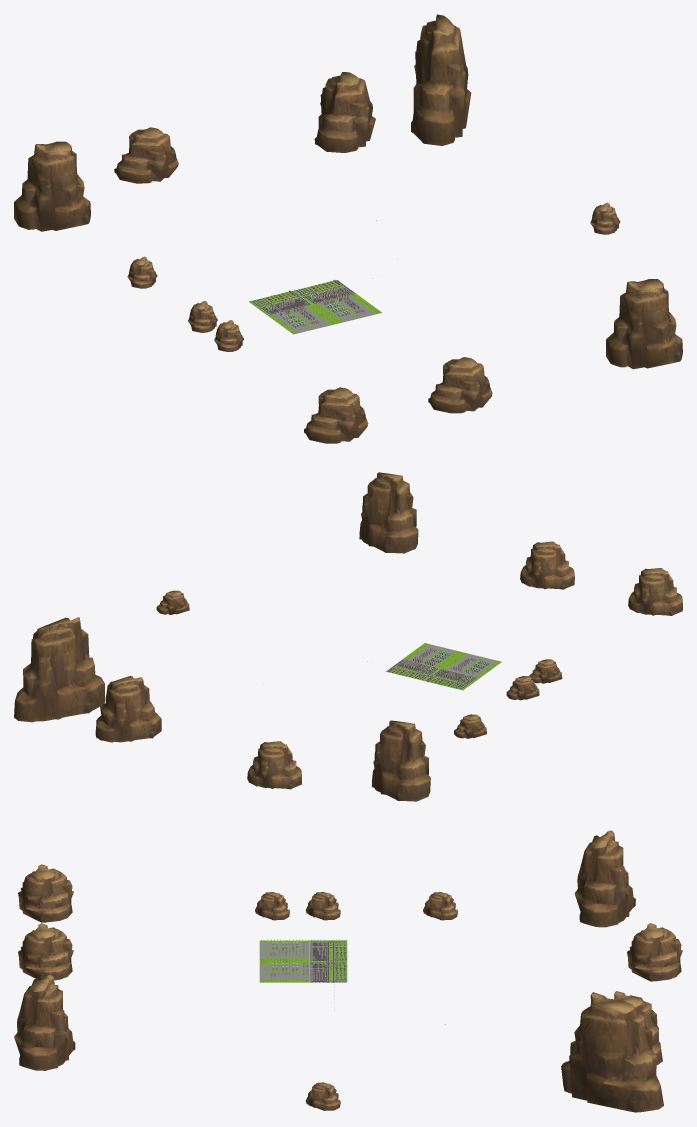
File: scene_biwu_level3.glb
3 renders of one model, top to bottom at view 1: azimuth 30°, elevation 25°; view 2: azimuth 150°, elevation 25°; view 3: azimuth 270°, elevation 25°, orthographic. The views are drawn at different scales.
Parts seen in each view (by area): view 1: Natures_Mountain_RR-StoneA_01_01.006, Natures_Mountain_RR-StoneA_01_01, Natures_Mountain_RR-StoneA_01_01.003, Natures_Mountain_RR-StoneA_01_01.002, Natures_Mountain_RR-StoneA_01_01.005, Natures_Mountain_RR-StoneA_01_01.004, Natures_Mountain_RR-StoneA_01_01.001, Natures_Mountain_RR-StoneA_01_02, Natures_Mountain_RR-StoneA_01_02.004, Natures_Mountain_RR-StoneA_01_02.002, Natures_Mountain_RR-StoneA_01_02.003; view 2: Natures_Mountain_RR-StoneA_01_01.006, Natures_Mountain_RR-StoneA_01_01, Natures_Mountain_RR-StoneA_01_01.003, Natures_Mountain_RR-StoneA_01_01.002, Natures_Mountain_RR-StoneA_01_01.004, Natures_Mountain_RR-StoneA_01_01.001, Natures_Mountain_RR-StoneA_01_01.005, Natures_Mountain_RR-StoneA_01_02, Natures_Mountain_RR-StoneA_01_02.004, Natures_Mountain_RR-StoneA_01_02.003, Natures_Mountain_RR-StoneA_01_02.002; view 3: Natures_Mountain_RR-StoneA_01_01.006, Natures_Mountain_RR-StoneA_01_01.003, Natures_Mountain_RR-StoneA_01_01, Natures_Mountain_RR-StoneA_01_01.005, Natures_Mountain_RR-StoneA_01_01.004, Natures_Mountain_RR-StoneA_01_01.001, Natures_Mountain_RR-StoneA_01_01.002, Natures_Mountain_RR-StoneA_01_02, Natures_Mountain_RR-StoneA_01_02.004, Natures_Mountain_RR-StoneA_01_02.002, Natures_Mountain_RR-StoneA_01_02.003.
Boxes of the visible parts, x1,y1,x2,y2 form: Natures_Mountain_RR-StoneA_01_01.006: (411,14,471,145); Natures_Mountain_RR-StoneA_01_01: (606,279,682,369); Natures_Mountain_RR-StoneA_01_01.003: (14,141,90,231); Natures_Mountain_RR-StoneA_01_01.002: (314,72,375,152); Natures_Mountain_RR-StoneA_01_01.005: (304,387,368,443); Natures_Mountain_RR-StoneA_01_01.004: (114,127,178,183); Natures_Mountain_RR-StoneA_01_01.001: (428,357,492,413); Natures_Mountain_RR-StoneA_01_02: (188,301,217,332); Natures_Mountain_RR-StoneA_01_02.004: (590,202,620,234); Natures_Mountain_RR-StoneA_01_02.002: (214,320,243,351); Natures_Mountain_RR-StoneA_01_02.003: (127,256,157,288); Natures_Mountain_RR-StoneA_01_01.006: (14,617,104,722); Natures_Mountain_RR-StoneA_01_01: (359,472,418,553); Natures_Mountain_RR-StoneA_01_01.003: (371,720,430,801); Natures_Mountain_RR-StoneA_01_01.002: (95,676,161,742); Natures_Mountain_RR-StoneA_01_01.004: (247,741,301,789); Natures_Mountain_RR-StoneA_01_01.001: (520,541,574,589); Natures_Mountain_RR-StoneA_01_01.005: (628,568,682,615); Natures_Mountain_RR-StoneA_01_02: (506,676,539,700); Natures_Mountain_RR-StoneA_01_02.004: (156,590,189,614); Natures_Mountain_RR-StoneA_01_02.003: (454,714,486,738); Natures_Mountain_RR-StoneA_01_02.002: (529,659,562,683); Natures_Mountain_RR-StoneA_01_01.006: (561,992,663,1112); Natures_Mountain_RR-StoneA_01_01.003: (574,830,635,927); Natures_Mountain_RR-StoneA_01_01: (14,974,75,1070); Natures_Mountain_RR-StoneA_01_01.005: (18,864,73,922); Natures_Mountain_RR-StoneA_01_01.004: (627,923,682,981); Natures_Mountain_RR-StoneA_01_01.001: (18,923,73,980); Natures_Mountain_RR-StoneA_01_01.002: (614,991,662,1064); Natures_Mountain_RR-StoneA_01_02: (305,892,340,920); Natures_Mountain_RR-StoneA_01_02.004: (305,1082,340,1110); Natures_Mountain_RR-StoneA_01_02.002: (255,892,289,920); Natures_Mountain_RR-StoneA_01_02.003: (423,892,457,920).
Bounding box in the file's own units: 4113 × 865 × 5360.
30 materials, 30 textured.
